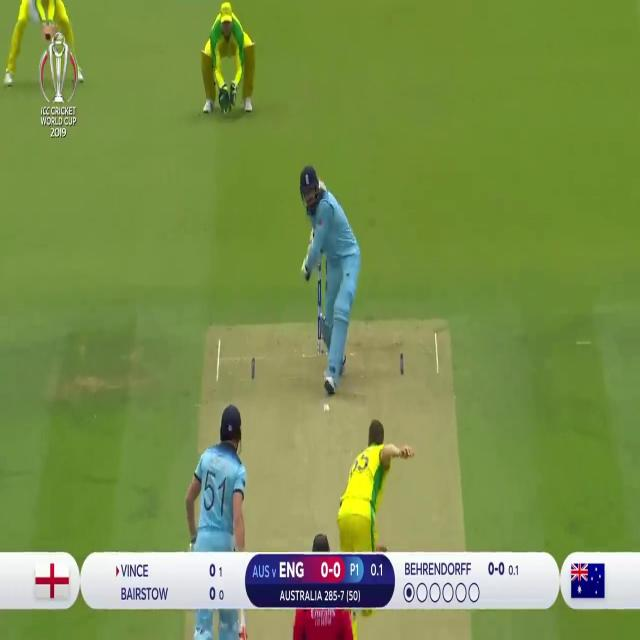ball: (322, 399, 332, 419)
